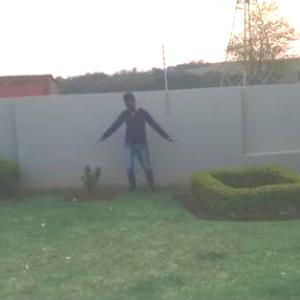land: (94, 87, 176, 201)
